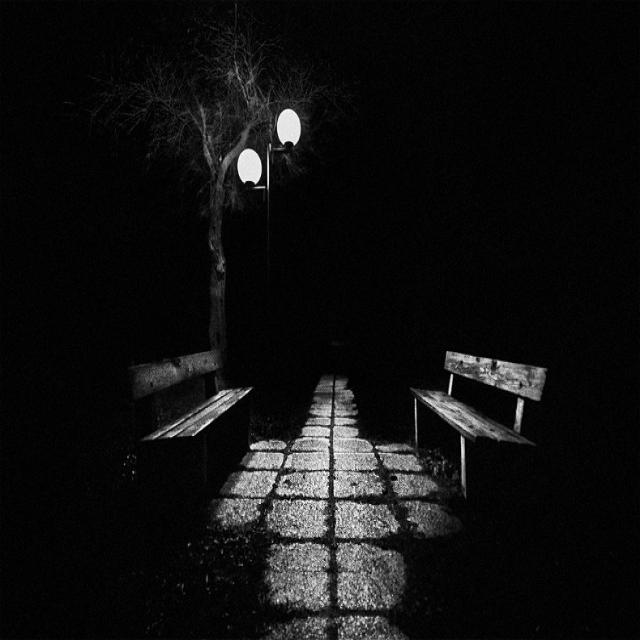chair: (119, 332, 269, 537), (411, 328, 558, 530)
